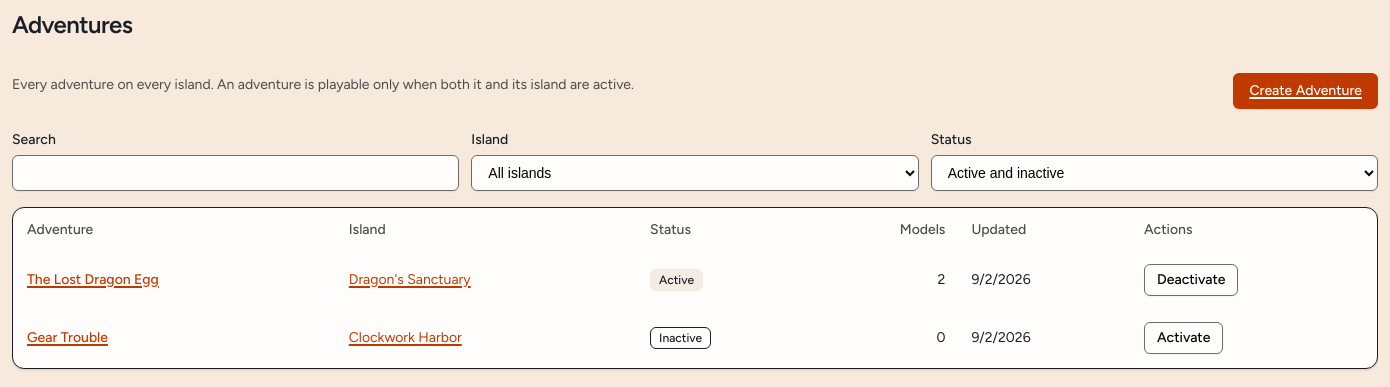
AdminAdventures › lists every adventure with its island and filters by status
Expected: the number of rows is 3, x1=15 y1=210 x2=1375 y2=250; x1=15 y1=252 x2=1375 y2=308; x1=15 y1=310 x2=1375 y2=366
Select "Inactive" in the dropdown labelled "Status" at (1154, 173), box x1=931 y1=155 x2=1378 y2=191
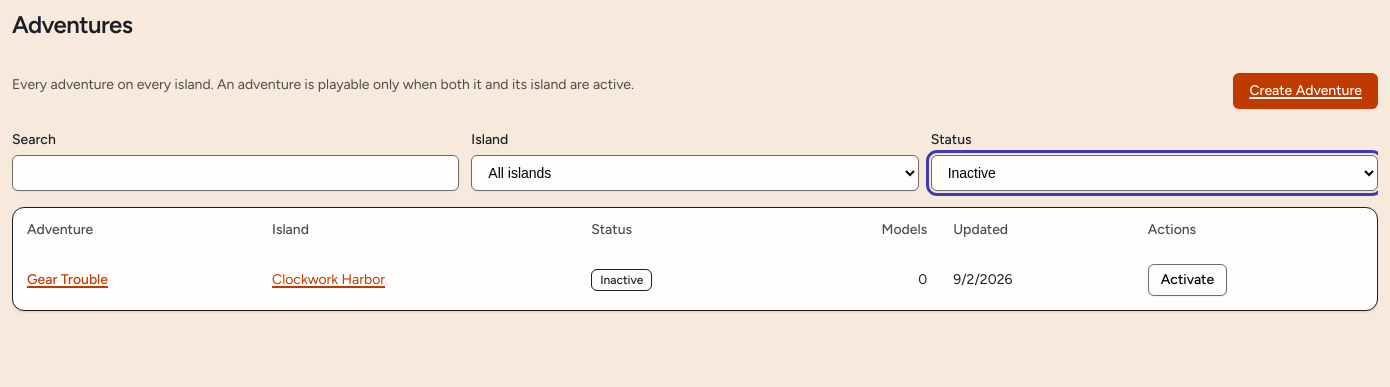
Expected: the number of rows is 2, x1=15 y1=210 x2=1375 y2=250; x1=15 y1=252 x2=1375 y2=308
Expected: the link "The Lost Dragon Egg" is gone
